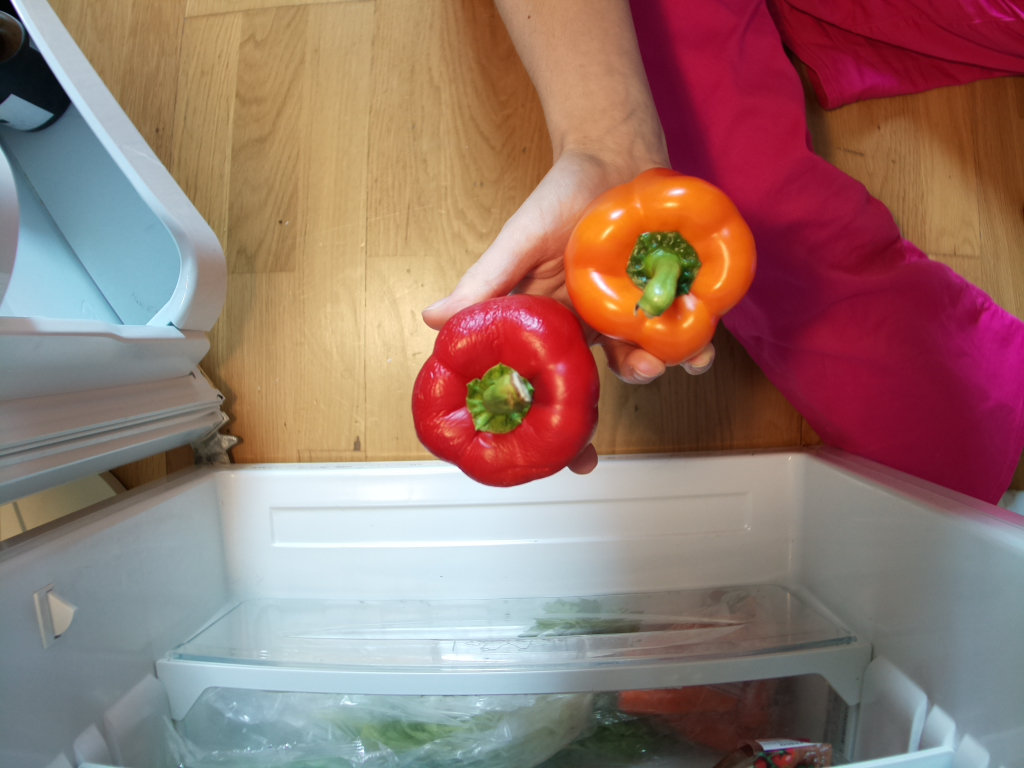pepper: (561, 164, 763, 369)
pepper-bad: (409, 292, 601, 489)
